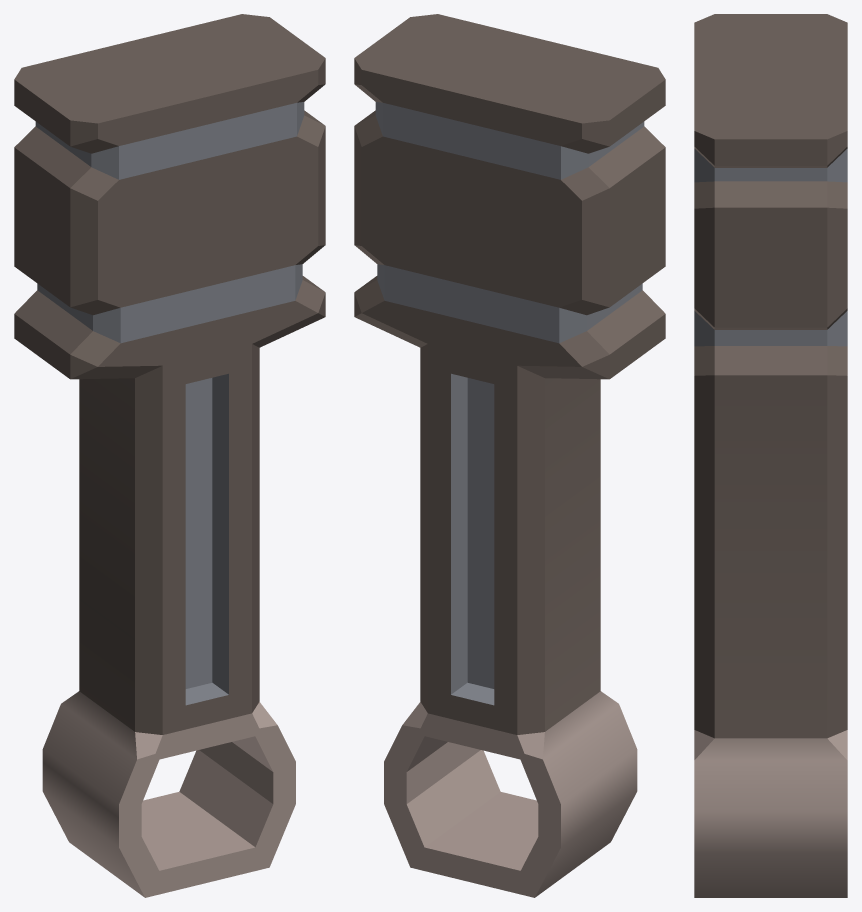
The model's file is EnginePart_01.fbx.
The picture shows the model from 3 angles, left to right: view 1: azimuth 30°, elevation 25°; view 2: azimuth 150°, elevation 25°; view 3: azimuth 270°, elevation 25°; orthographic projection.
Parts seen in each view (by area): view 1: EnginePart_01; view 2: EnginePart_01; view 3: EnginePart_01.
Part boxes in pixels (left/top/right/bottom): EnginePart_01: left=14, top=14, right=325, bottom=897; EnginePart_01: left=354, top=14, right=665, bottom=897; EnginePart_01: left=694, top=14, right=847, bottom=897.
Bounding box in the file's own units: 12.1 × 35.58 × 6.25.
